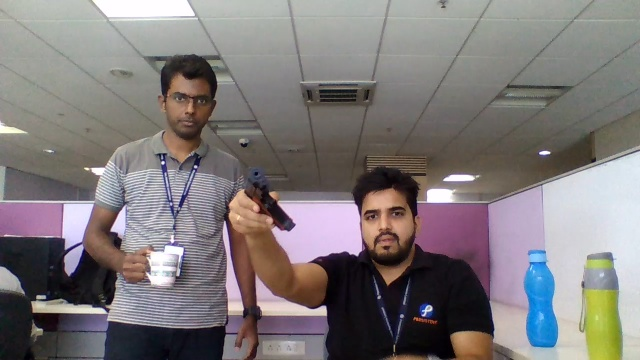gun: (245, 168, 268, 196)
